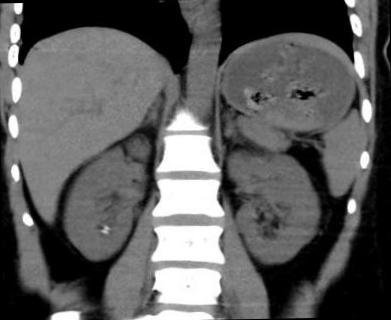Tas_Var: (98, 229, 110, 234), (101, 224, 110, 229)
